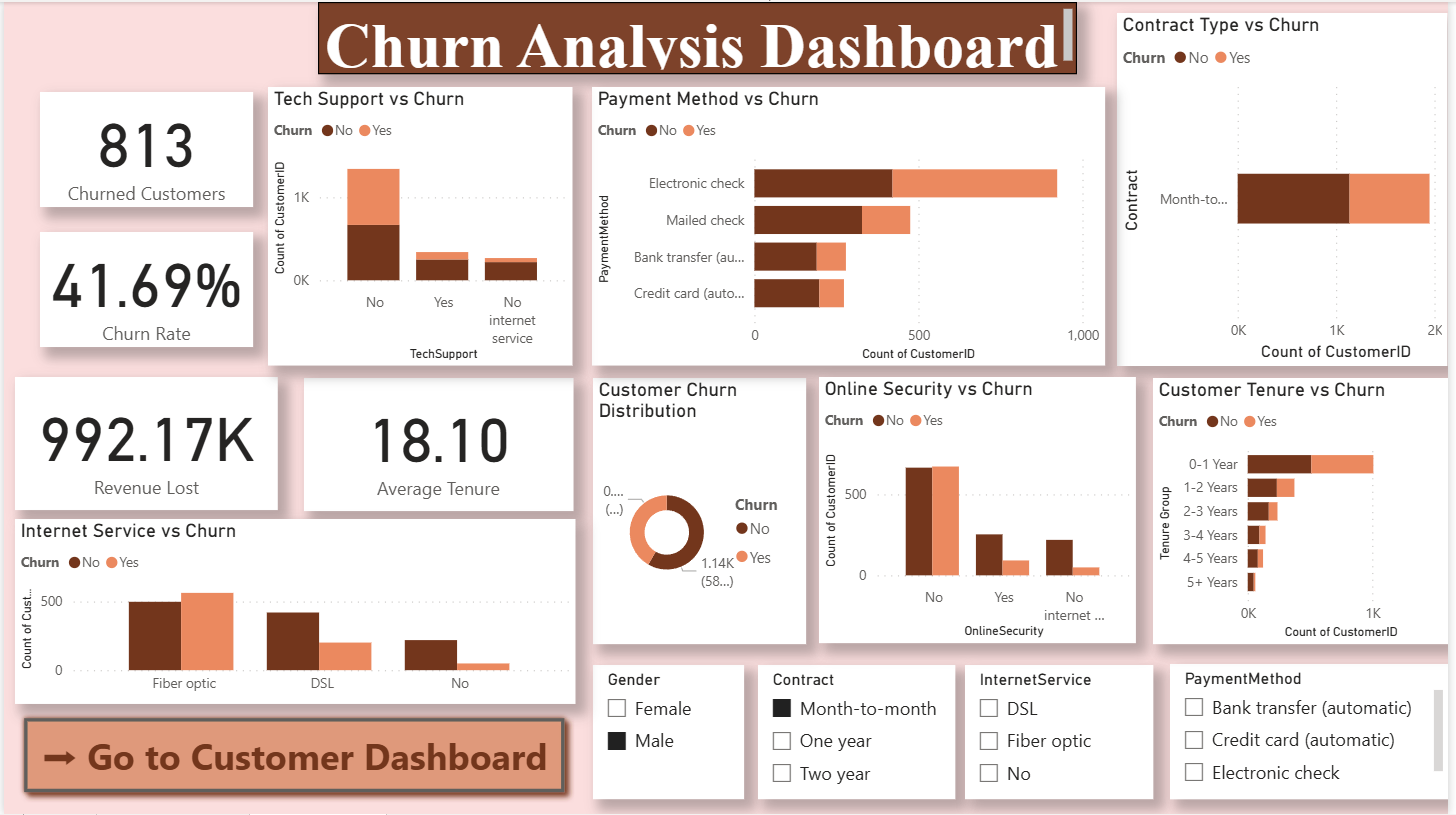

This screenshot's page, from the dashboard's own definition file:
{"tool":"powerbi","page":{"name":"Churn Dashboard","canvas":[1280,720],"ordinal":2},"visuals":[{"type":"slicer","fields":{"Values":["Customer_Churn.Gender"]},"box":[522.3,587.9,133.9,118.8],"z":0},{"type":"slicer","fields":{"Values":["Customer_Churn.Contract"]},"box":[668.6,587.9,174.7,118.8],"z":1000},{"type":"slicer","fields":{"Values":["Customer_Churn.InternetService"]},"box":[852.1,587.9,166.7,118.8],"z":2000},{"type":"slicer","fields":{"Values":["Customer_Churn.PaymentMethod"]},"box":[1033.9,587,246.5,119.7],"z":3000},{"type":"textbox","box":[278.4,0,673,63.8],"z":4000},{"type":"card","fields":{"Values":["Customer_Churn.Churned Customers"]},"box":[31.9,79.8,188.9,102],"z":5000},{"type":"card","fields":{"Values":["Customer_Churn.Churn Rate"]},"box":[31.9,203.9,188.9,102],"z":6000},{"type":"card","fields":{"Values":["Customer_Churn.Revenue Lost"]},"box":[9.8,332.5,233.2,117.9],"z":7000},{"type":"card","fields":{"Values":["Customer_Churn.Average Tenure"]},"box":[266,333.4,238.5,117.9],"z":8000},{"type":"donutChart","title":"Customer Churn Distribution","fields":{"Category":["Customer_Churn.Churn"],"Y":["CountNonNull(Customer_Churn.CustomerID)"]},"box":[522.3,333.4,188.9,235.9],"z":9000},{"type":"barChart","title":"Contract Type vs Churn","fields":{"Category":["Customer_Churn.Contract"],"Y":["CountNonNull(Customer_Churn.CustomerID)"],"Series":["Customer_Churn.Churn"]},"box":[986.9,9.8,293.5,313],"z":10000},{"type":"clusteredColumnChart","title":"Internet Service vs Churn","fields":{"Category":["Customer_Churn.InternetService"],"Y":["CountNonNull(Customer_Churn.CustomerID)"],"Series":["Customer_Churn.Churn"]},"box":[9.8,458.4,497.4,164],"z":11000},{"type":"barChart","title":"Payment Method vs Churn","fields":{"Category":["Customer_Churn.PaymentMethod"],"Y":["CountNonNull(Customer_Churn.CustomerID)"],"Series":["Customer_Churn.Churn"]},"box":[521.4,75.4,454.9,247.4],"z":12000},{"type":"columnChart","title":"Tech Support vs Churn","fields":{"Category":["Customer_Churn.TechSupport"],"Y":["CountNonNull(Customer_Churn.CustomerID)"],"Series":["Customer_Churn.Churn"]},"box":[234.1,75.4,270.4,247.4],"z":13000},{"type":"clusteredColumnChart","title":"Online Security vs Churn","fields":{"Category":["Customer_Churn.OnlineSecurity"],"Y":["CountNonNull(Customer_Churn.CustomerID)"],"Series":["Customer_Churn.Churn"]},"box":[722.7,332.5,281.1,235.9],"z":14000},{"type":"barChart","title":"Customer Tenure vs Churn","fields":{"Category":["Customer_Churn.Tenure Group"],"Y":["CountNonNull(Customer_Churn.CustomerID)"],"Series":["Customer_Churn.Churn"]},"box":[1018.8,333.4,261.6,235.9],"z":15000},{"type":"actionButton","box":[9.1,626.3,497.1,83.6],"z":16000}]}

Visuals, with their boxes in screenshot pixels (x1, y1, x2, y2), scaled from the page's 1280x720 canvas onto the 1456x815 screenshot:
slicer - Customer_Churn.Gender: box(594, 665, 746, 800)
slicer - Customer_Churn.Contract: box(761, 665, 959, 800)
slicer - Customer_Churn.InternetService: box(969, 665, 1159, 800)
slicer - Customer_Churn.PaymentMethod: box(1176, 664, 1455, 800)
textbox: box(317, 0, 1082, 72)
card - Customer_Churn.Churned Customers: box(36, 90, 251, 206)
card - Customer_Churn.Churn Rate: box(36, 231, 251, 346)
card - Customer_Churn.Revenue Lost: box(11, 376, 276, 510)
card - Customer_Churn.Average Tenure: box(303, 377, 574, 511)
"Customer Churn Distribution" donutChart: box(594, 377, 809, 644)
"Contract Type vs Churn" barChart: box(1123, 11, 1455, 365)
"Internet Service vs Churn" clusteredColumnChart: box(11, 519, 577, 705)
"Payment Method vs Churn" barChart: box(593, 85, 1111, 365)
"Tech Support vs Churn" columnChart: box(266, 85, 574, 365)
"Online Security vs Churn" clusteredColumnChart: box(822, 376, 1142, 643)
"Customer Tenure vs Churn" barChart: box(1159, 377, 1455, 644)
actionButton: box(10, 709, 576, 804)
